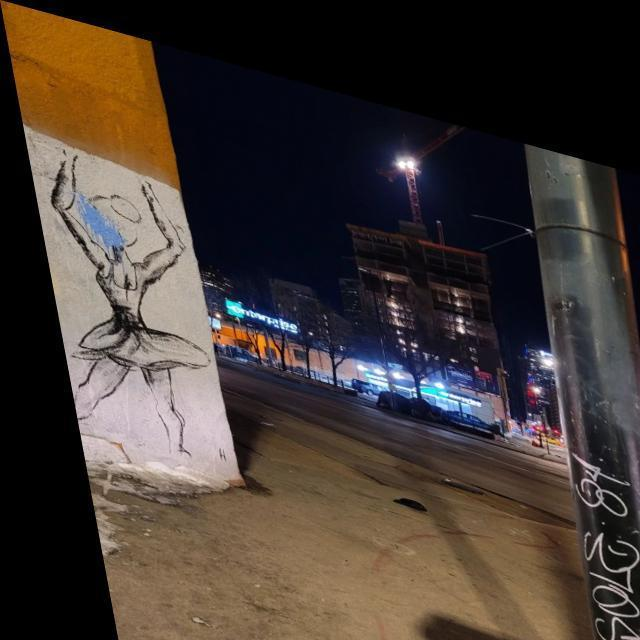-: (19, 128, 218, 464), (526, 394, 640, 640)
